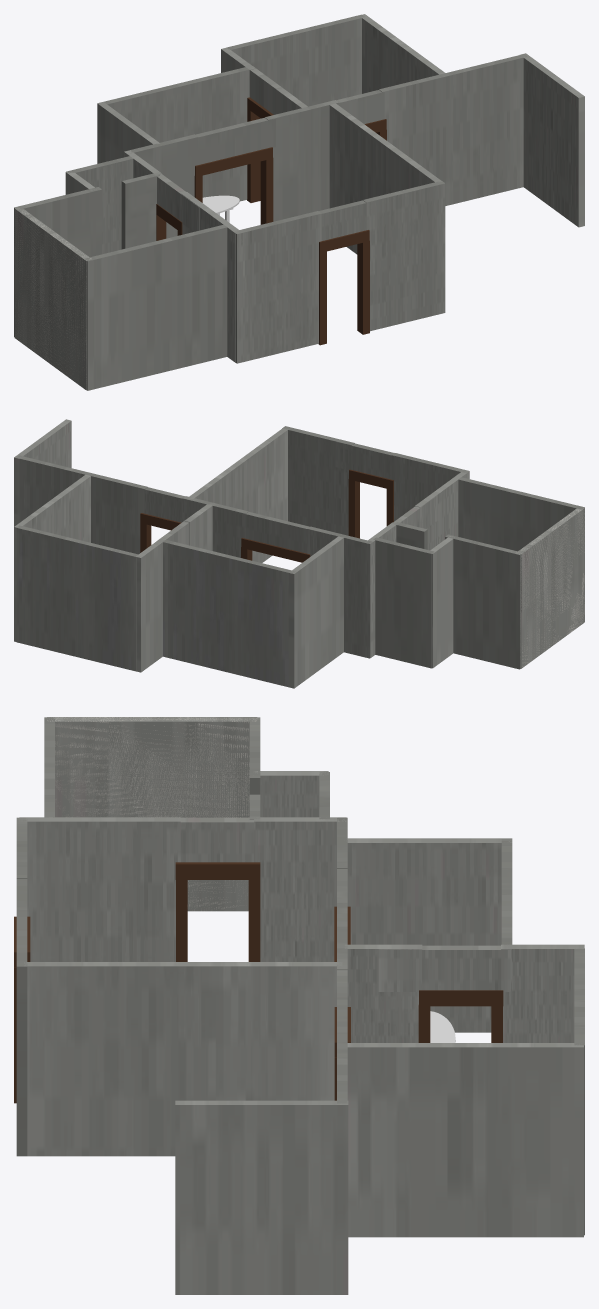
The model's file is wall new new new new new.fbx.
3 views of the same model, one above another, from view 1: azimuth 30°, elevation 25°; view 2: azimuth 150°, elevation 25°; view 3: azimuth 270°, elevation 25° (orthographic). The views are drawn at different scales.
Visible parts, largest first — view 1: Cube.025, Cube.014, Cube.003, Cube.001, Cube.002, Cube.023, Cube.017, Cube.015, Cube.011, Cube.007, Cube.016, Cube.020 (+18 smaller); view 2: Cube.017, Cube.015, Cube.020, Cube.002, Cube.026, Cube.018, Cube.014, Cube.025, Cube.001, Cube.011, Cube.005, Cube.013 (+18 smaller); view 3: Cube.011, Cube.016, Cube.023, Cube.008, Cube.002, Cube.018, Cube.004, Cube.030, Cube.013, Cube.033, Cube.012, Cube.006 (+11 smaller).
Boxes of the visible parts, box(x1,y1,x2,y2) form: Cube.025: box(84, 224, 227, 390); Cube.014: box(378, 54, 527, 205); Cube.003: box(235, 211, 321, 363); Cube.001: box(363, 181, 445, 331); Cube.002: box(14, 208, 91, 390); Cube.023: box(520, 53, 584, 227); Cube.017: box(104, 67, 249, 201); Cube.015: box(226, 14, 364, 106); Cube.011: box(329, 102, 442, 254); Cube.007: box(264, 100, 339, 221); Cube.016: box(359, 14, 445, 93); Cube.020: box(14, 187, 101, 336); Cube.017: box(163, 540, 296, 687); Cube.015: box(16, 525, 138, 671); Cube.020: box(445, 534, 522, 669); Cube.002: box(516, 508, 584, 668); Cube.026: box(373, 537, 434, 668); Cube.018: box(288, 536, 343, 688); Cube.014: box(17, 455, 147, 554); Cube.025: box(458, 477, 584, 621); Cube.001: box(282, 426, 354, 535); Cube.011: box(188, 428, 287, 562); Cube.005: box(307, 526, 372, 658); Cube.013: box(136, 538, 165, 672); Cube.011: box(24, 962, 342, 1156); Cube.016: box(347, 1043, 583, 1237); Cube.023: box(175, 1100, 348, 1294); Cube.008: box(19, 817, 180, 961); Cube.002: box(47, 717, 257, 911); Cube.018: box(347, 838, 512, 1032); Cube.004: box(254, 817, 346, 961); Cube.030: box(47, 717, 257, 910); Cube.013: box(501, 944, 584, 1042); Cube.033: box(378, 945, 511, 991); Cube.012: box(344, 944, 422, 1042); Cube.006: box(175, 862, 260, 961).
Size of the model in its own units: 1457 by 335 by 906.
Materials: 9 (7 with a texture image).
